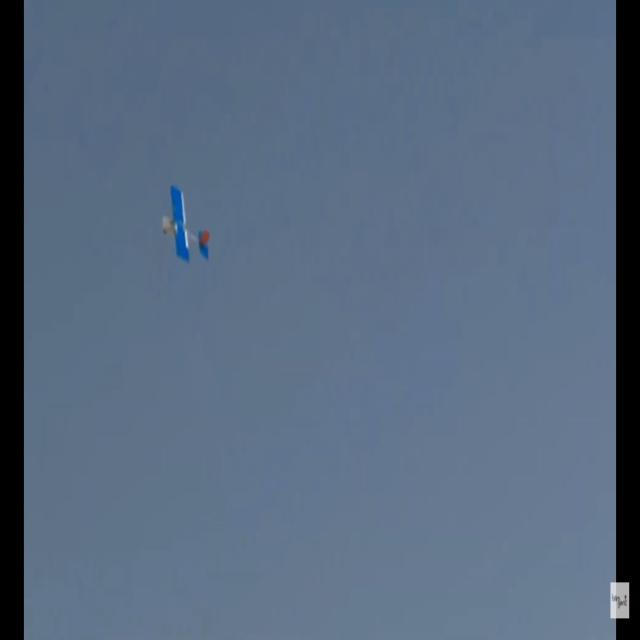iha: (161, 216, 211, 233)
